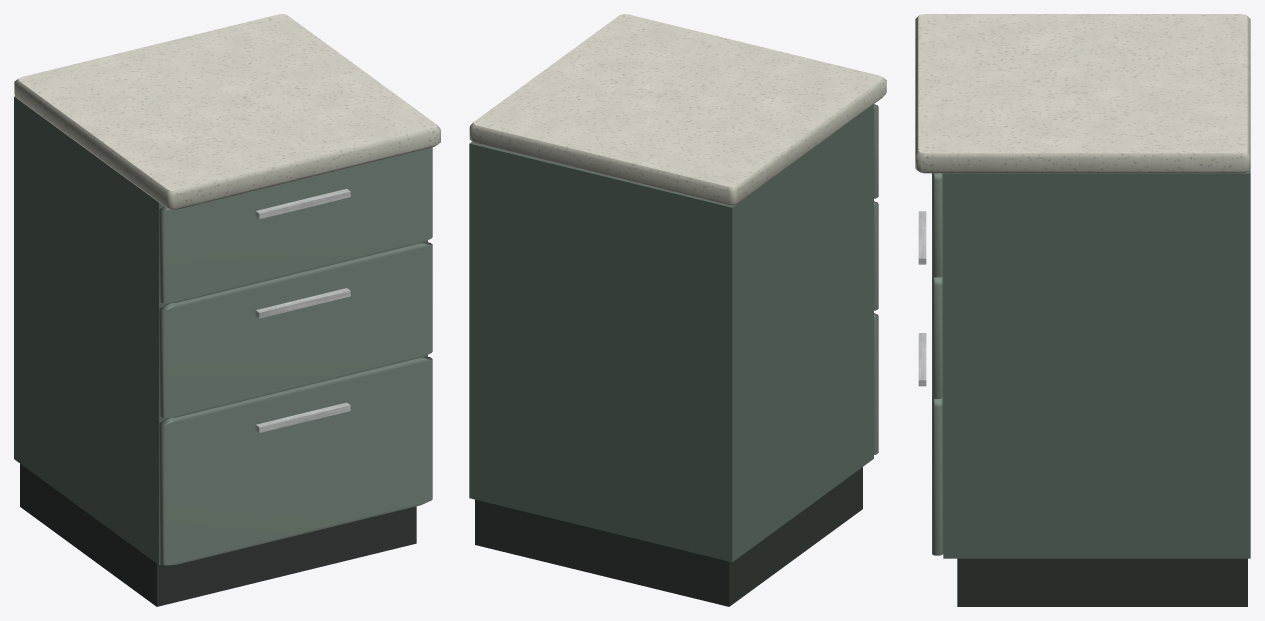
File: kitchen_drawer_cabinet.glb
3 views of the same model, side by side, from view 1: azimuth 30°, elevation 25°; view 2: azimuth 150°, elevation 25°; view 3: azimuth 270°, elevation 25° (orthographic). The views are drawn at different scales.
Parts seen in each view (by area): view 1: kitchen_drawer_cabinet; view 2: kitchen_drawer_cabinet; view 3: kitchen_drawer_cabinet.
Part boxes in pixels (left/top/right/bottom): kitchen_drawer_cabinet: left=14, top=14, right=440, bottom=606; kitchen_drawer_cabinet: left=469, top=14, right=886, bottom=606; kitchen_drawer_cabinet: left=915, top=14, right=1250, bottom=606.
Bounding box in the file's own units: 0.6 × 0.9 × 0.6.
3 materials, 2 textured.
